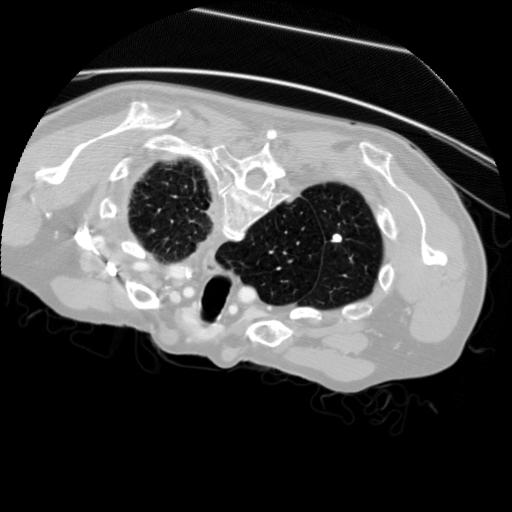nodule: (328, 231, 347, 250)
